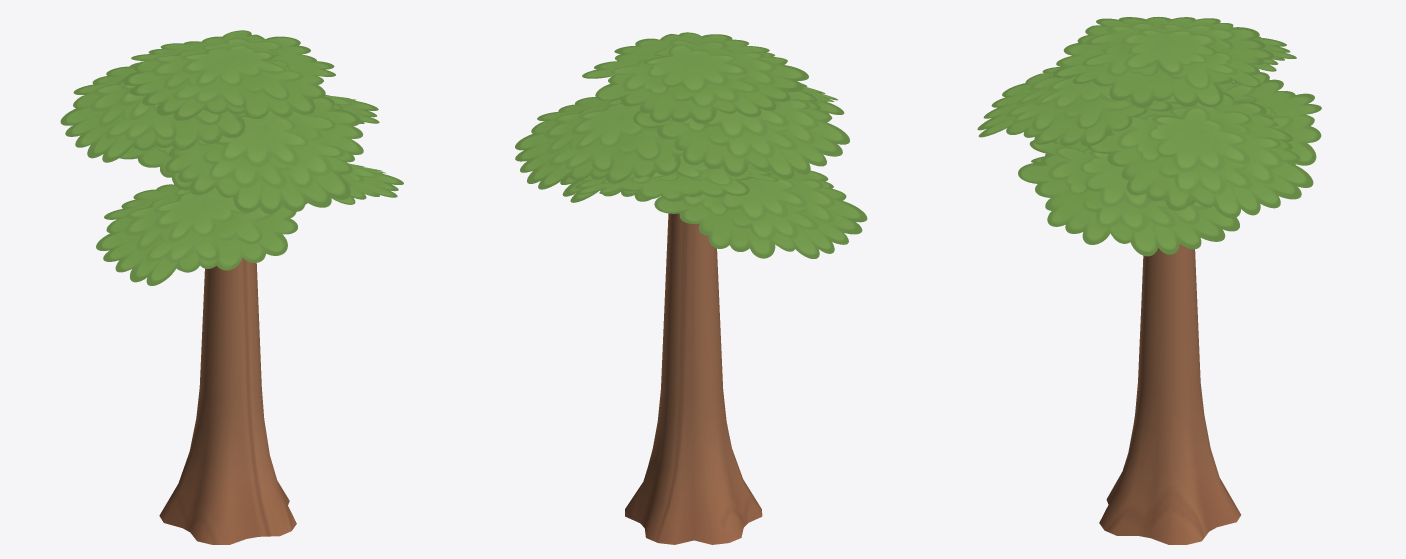
The model's file is elyseTree_4.fbx.
3 renders of one model, left to right at view 1: azimuth 30°, elevation 25°; view 2: azimuth 150°, elevation 25°; view 3: azimuth 270°, elevation 25°, orthographic. The views are drawn at different scales.
Visible parts, largest first — view 1: Plane.006, trunk_lowP; view 2: Plane.006, trunk_lowP; view 3: Plane.006, trunk_lowP.
Part boxes in pixels (<box>): Plane.006: <box>60,30,403,285</box>; trunk_lowP: <box>159,258,296,544</box>; Plane.006: <box>515,32,867,258</box>; trunk_lowP: <box>625,213,762,544</box>; Plane.006: <box>977,16,1321,256</box>; trunk_lowP: <box>1099,244,1240,544</box>.
Bounding box in the file's own units: 178 × 213 × 183.
2 materials, 2 textured.
